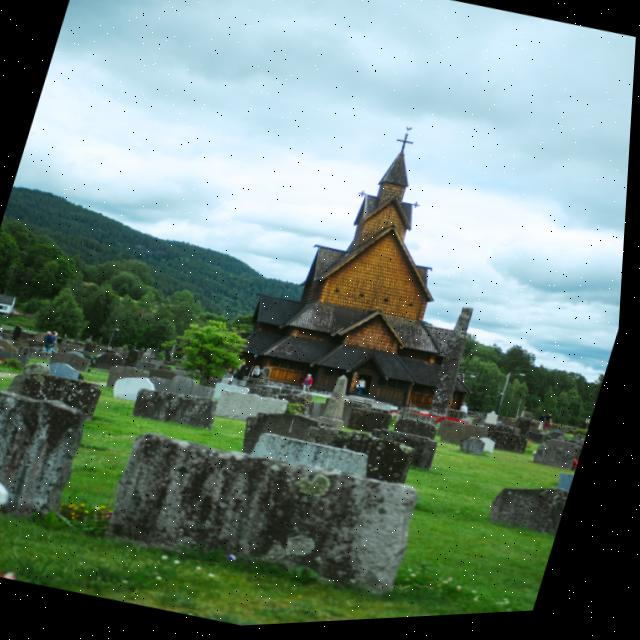building: (233, 119, 535, 426)
